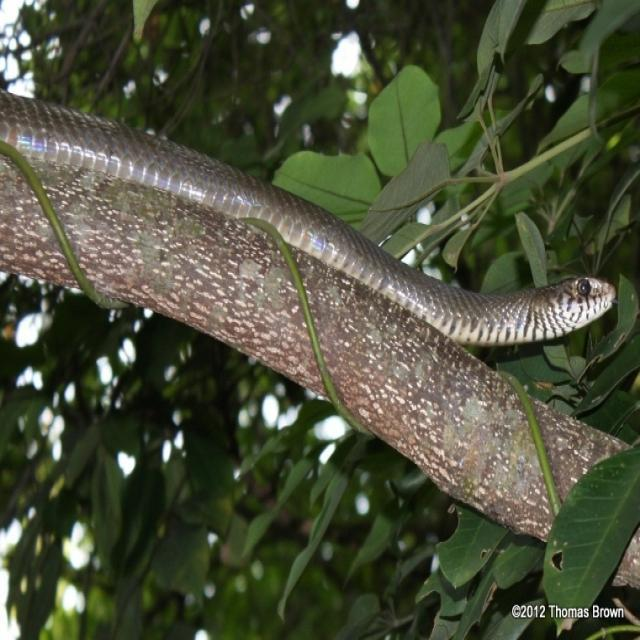Snake: (0, 76, 626, 344)
